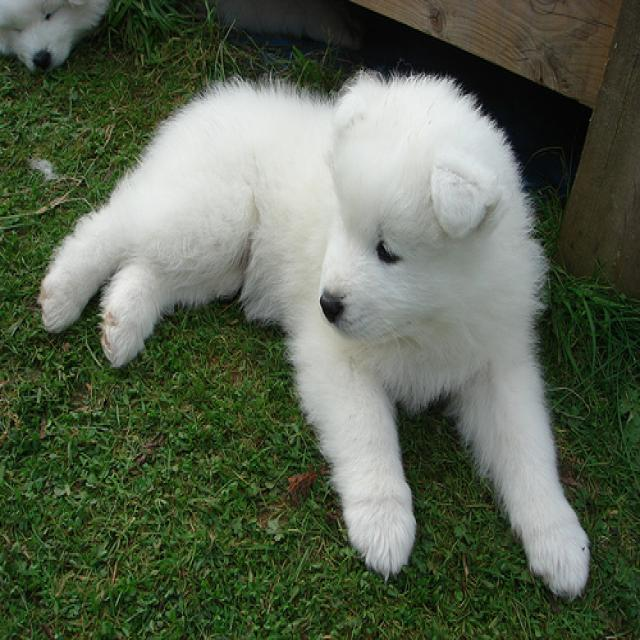dog-samoyed: (28, 68, 596, 609)
